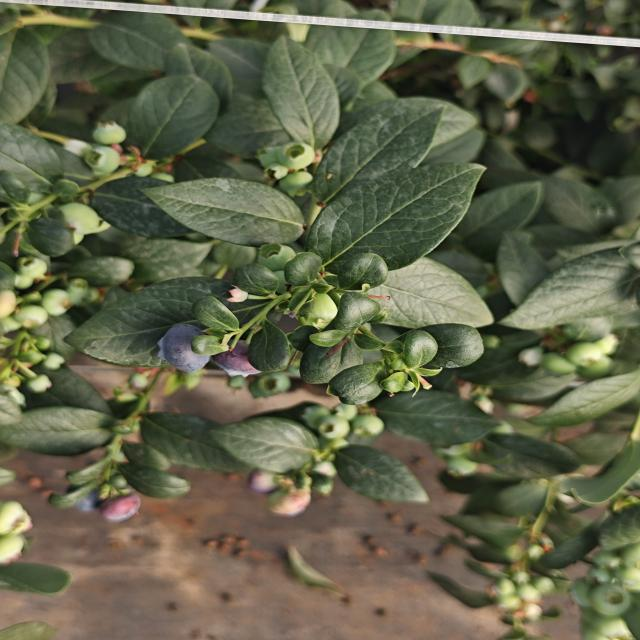ripe: (208, 335, 289, 384), (154, 323, 220, 375), (59, 472, 110, 519)
